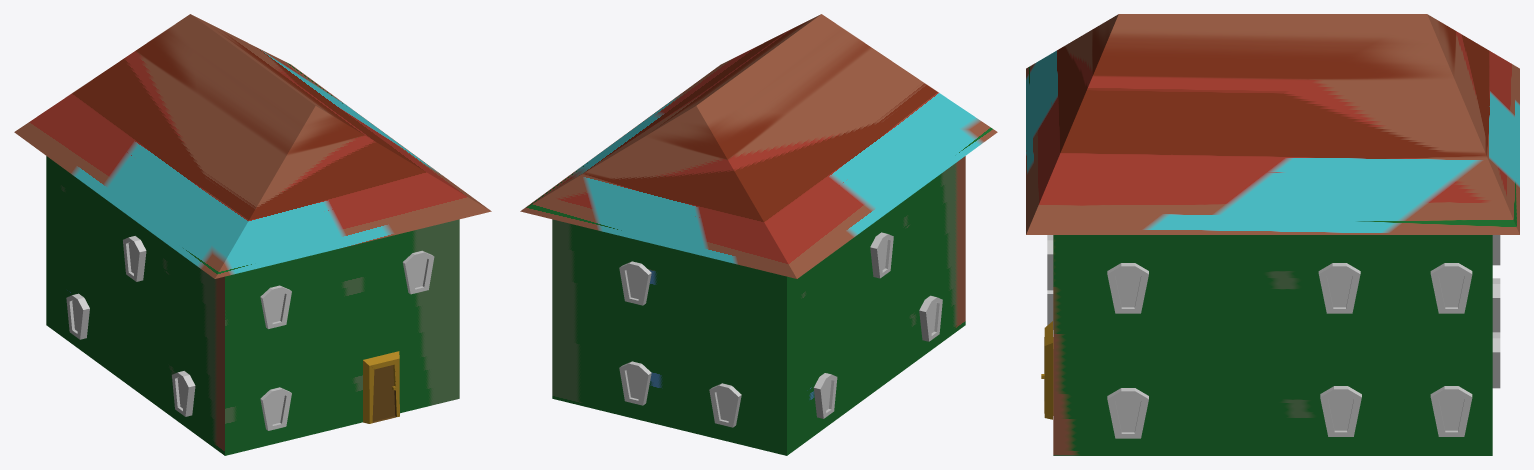
The model's file is house.fbx.
3 views of the same model, side by side, from view 1: azimuth 30°, elevation 25°; view 2: azimuth 150°, elevation 25°; view 3: azimuth 270°, elevation 25° (orthographic). The views are drawn at different scales.
Visible parts, largest first — view 1: Cube, Cube.010, Cube.001, Cube.017, Cube.002, Cube.008, Cube.014, Cube.015; view 2: Cube, Cube.011, Cube.012, Cube.013, Cube.008, Cube.014, Cube.015; view 3: Cube, Cube.004, Cube.005, Cube.006, Cube.003, Cube.007, Cube.009, Cube.010, Cube.011, Cube.012.
Part boxes in pixels (<box>): Cube: <box>14,14,491,455</box>; Cube.010: <box>363,351,399,423</box>; Cube.001: <box>260,285,291,328</box>; Cube.017: <box>402,250,434,294</box>; Cube.002: <box>260,387,291,430</box>; Cube.008: <box>172,371,195,416</box>; Cube.014: <box>123,236,146,281</box>; Cube.015: <box>66,293,89,339</box>; Cube: <box>520,14,997,455</box>; Cube.011: <box>619,361,651,405</box>; Cube.012: <box>709,383,741,427</box>; Cube.013: <box>619,261,651,305</box>; Cube.008: <box>919,295,942,341</box>; Cube.014: <box>870,232,893,278</box>; Cube.015: <box>813,373,837,418</box>; Cube: <box>1026,14,1519,455</box>; Cube.004: <box>1318,263,1360,313</box>; Cube.005: <box>1430,263,1472,313</box>; Cube.006: <box>1430,386,1472,436</box>; Cube.003: <box>1107,388,1148,438</box>; Cube.007: <box>1107,263,1148,313</box>; Cube.009: <box>1320,386,1361,436</box>; Cube.010: <box>1041,321,1053,419</box>; Cube.011: <box>1492,332,1500,388</box>; Cube.012: <box>1492,278,1500,332</box>.
Size of the model in its own units: 3071 by 3199 by 3853.
